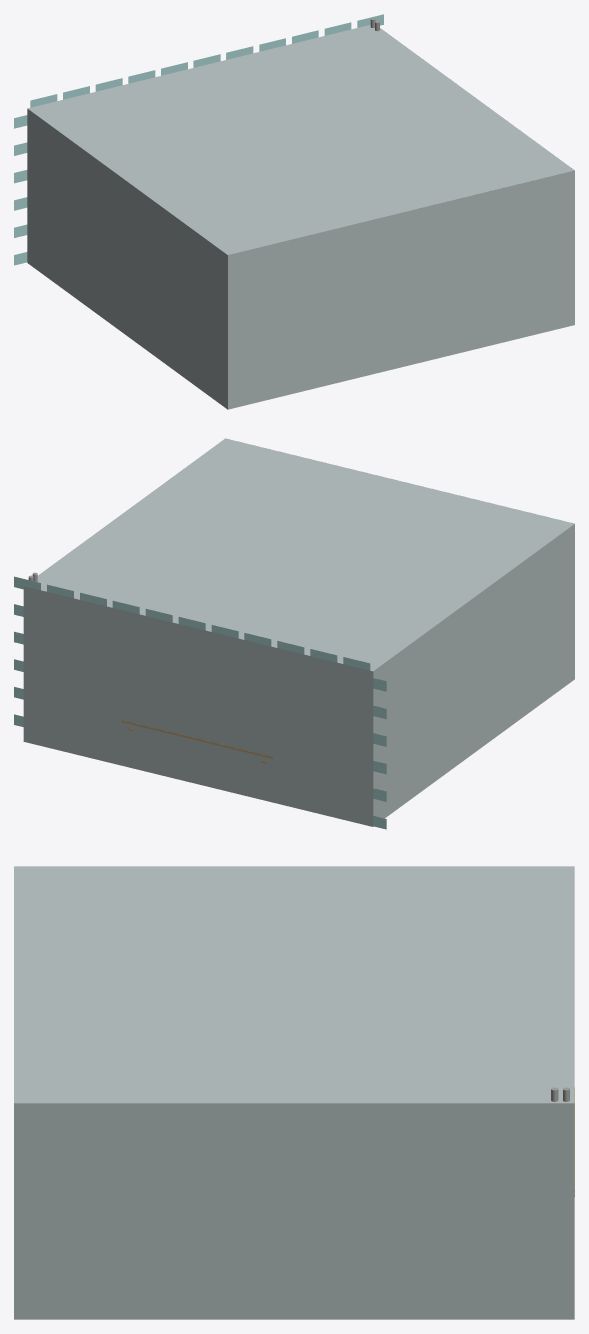
The model's file is stage_select_10fbx.fbx.
3 renders of one model, top to bottom at view 1: azimuth 30°, elevation 25°; view 2: azimuth 150°, elevation 25°; view 3: azimuth 270°, elevation 25°, orthographic. The views are drawn at different scales.
Parts seen in each view (by area): view 1: pPlane1; view 2: pPlane1; view 3: pPlane1.
Boxes of the visible parts, x1,y1,x2,y2 form: pPlane1: (27, 25, 574, 409); pPlane1: (23, 438, 574, 826); pPlane1: (14, 866, 574, 1319).
Bounding box in the file's own units: 170 × 71.38 × 159.
